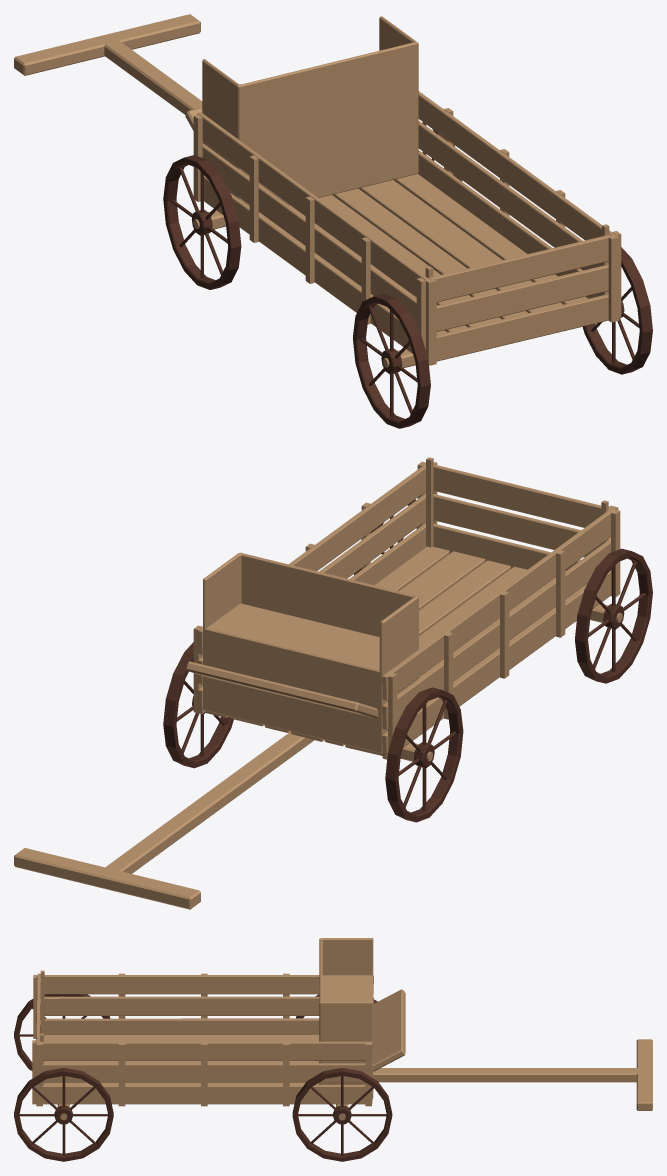
The model's file is cart-b.glb.
3 views of the same model, one above another, from view 1: azimuth 30°, elevation 25°; view 2: azimuth 150°, elevation 25°; view 3: azimuth 270°, elevation 25° (orthographic). The views are drawn at different scales.
Parts seen in each view (by area): view 1: Cart B (×2); view 2: Cart B (×2); view 3: Cart B (×2).
Part boxes in pixels (x1,y1,x2,y2): Cart B (×2): (14, 14, 652, 428); Cart B (×2): (14, 457, 652, 909); Cart B (×2): (14, 938, 652, 1161).
Bounding box in the file's own units: 2.08 × 1.73 × 6.68.
